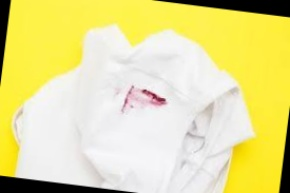lipstick: (118, 83, 173, 119)
